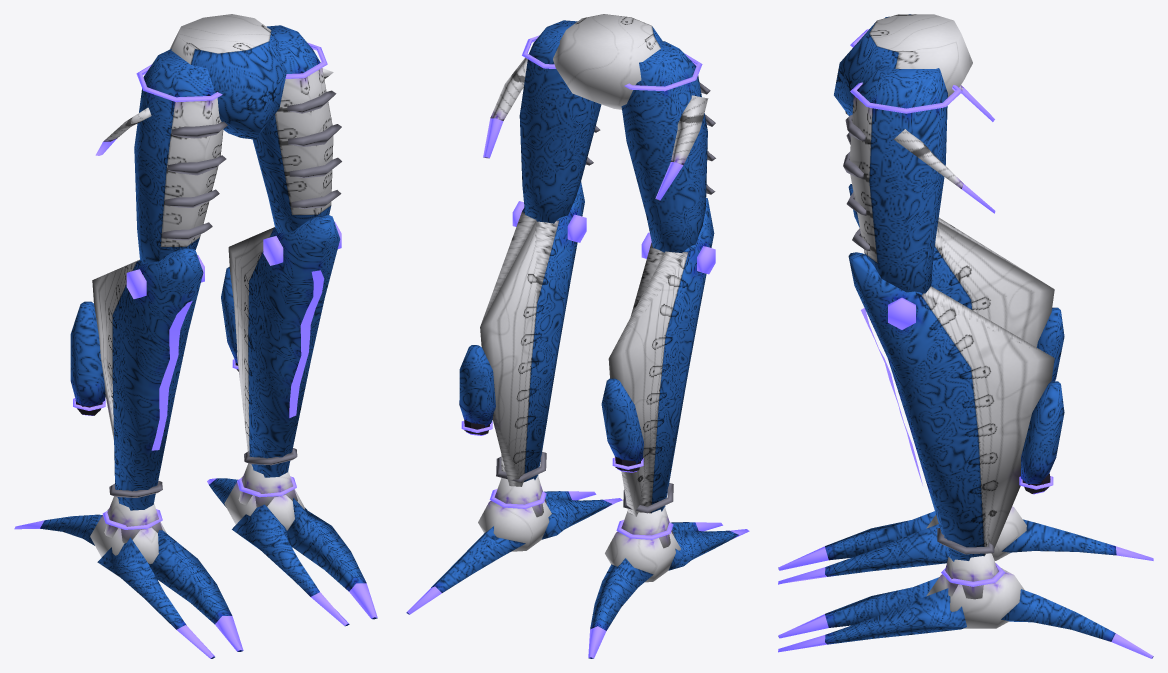
The model's file is HighSpeedLegsZ.glb.
3 renders of one model, left to right at view 1: azimuth 30°, elevation 25°; view 2: azimuth 150°, elevation 25°; view 3: azimuth 270°, elevation 25°, orthographic. The views are drawn at different scales.
Visible parts, largest first — view 1: HighSpeedLegsZ_ShinL, HighSpeedLegsZ_ShinR, HighSpeedLegsZ_ThighL, HighSpeedLegsZ_ThighR, HighSpeedLegsZ_FootL, HighSpeedLegsZ_FootR, HighSpeedLegsZ_Pelvis; view 2: HighSpeedLegsZ_ShinR, HighSpeedLegsZ_ShinL, HighSpeedLegsZ_ThighL, HighSpeedLegsZ_ThighR, HighSpeedLegsZ_FootL, HighSpeedLegsZ_FootR, HighSpeedLegsZ_Pelvis; view 3: HighSpeedLegsZ_ShinR, HighSpeedLegsZ_ThighR, HighSpeedLegsZ_FootR, HighSpeedLegsZ_ShinL, HighSpeedLegsZ_FootL, HighSpeedLegsZ_Pelvis.
Part boxes in pixels (<box>): HighSpeedLegsZ_ShinL: <box>70,248,204,510</box>; HighSpeedLegsZ_ShinR: <box>221,215,341,477</box>; HighSpeedLegsZ_ThighL: <box>95,49,227,263</box>; HighSpeedLegsZ_ThighR: <box>252,25,341,232</box>; HighSpeedLegsZ_FootL: <box>14,496,243,658</box>; HighSpeedLegsZ_FootR: <box>207,463,377,626</box>; HighSpeedLegsZ_Pelvis: <box>169,14,286,139</box>; HighSpeedLegsZ_ShinR: <box>459,181,586,486</box>; HighSpeedLegsZ_ShinL: <box>601,197,715,516</box>; HighSpeedLegsZ_ThighL: <box>621,41,715,252</box>; HighSpeedLegsZ_ThighR: <box>483,20,601,223</box>; HighSpeedLegsZ_FootL: <box>588,507,749,658</box>; HighSpeedLegsZ_FootR: <box>406,476,622,614</box>; HighSpeedLegsZ_Pelvis: <box>553,14,662,109</box>; HighSpeedLegsZ_ShinR: <box>848,252,1064,561</box>; HighSpeedLegsZ_ThighR: <box>843,65,995,293</box>; HighSpeedLegsZ_FootR: <box>778,553,1153,658</box>; HighSpeedLegsZ_ShinL: <box>848,184,1064,381</box>; HighSpeedLegsZ_FootL: <box>778,506,1153,584</box>; HighSpeedLegsZ_Pelvis: <box>834,14,972,115</box>.
Bounding box in the file's own units: 8.52 × 21.43 × 12.66.
6 materials, 4 textured.
